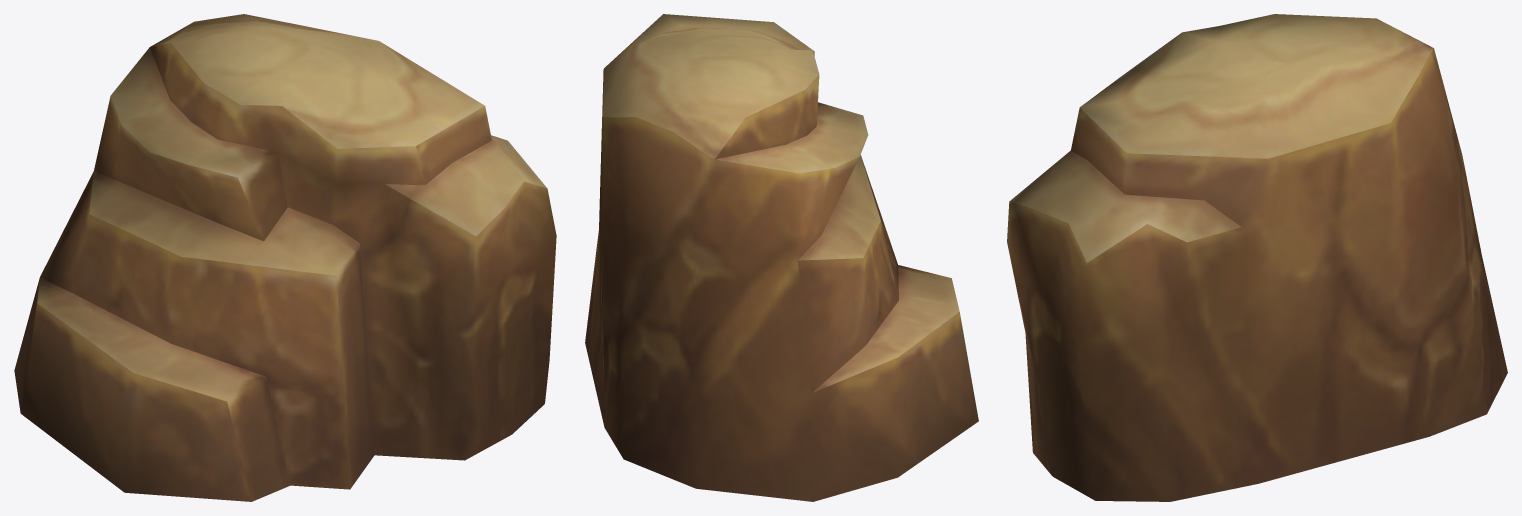
Rendered from Stage_ZhuCheng_ShanShi14.FBX.
3 renders of one model, left to right at view 1: azimuth 30°, elevation 25°; view 2: azimuth 150°, elevation 25°; view 3: azimuth 270°, elevation 25°, orthographic. The views are drawn at different scales.
Visible parts, largest first — view 1: Stage_ZhuCheng_ShanShi14; view 2: Stage_ZhuCheng_ShanShi14; view 3: Stage_ZhuCheng_ShanShi14.
Part boxes in pixels (<box>): Stage_ZhuCheng_ShanShi14: <box>14,14,556,501</box>; Stage_ZhuCheng_ShanShi14: <box>585,14,978,501</box>; Stage_ZhuCheng_ShanShi14: <box>1007,14,1507,501</box>.
Bounding box in the file's own units: 311 × 263 × 310.
